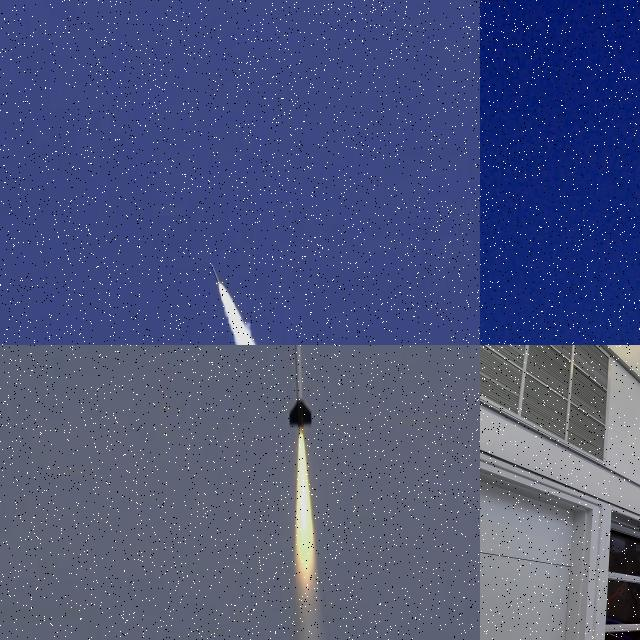Rocket: (289, 345, 312, 440), (210, 263, 222, 286)
